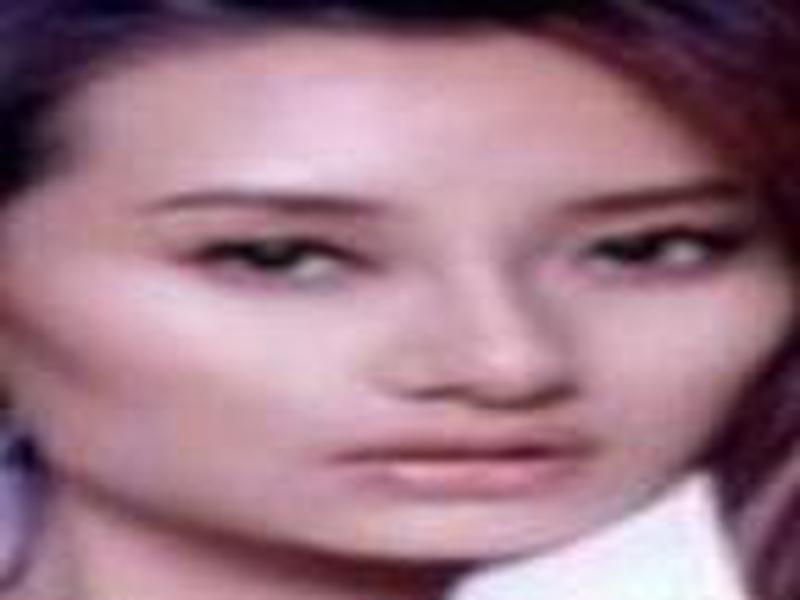without_mask: (40, 67, 789, 572)
